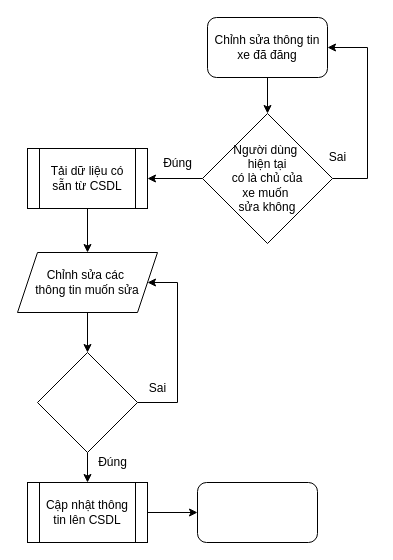
Some shapes in this 393 by 560 pixel diagram are drawn without their labels. Each missing label, with the centre of its shape:
"Chỉnh sửa thành công" goes at (257,512).
"Đã đủ dữ liệu" goes at (87,402).
